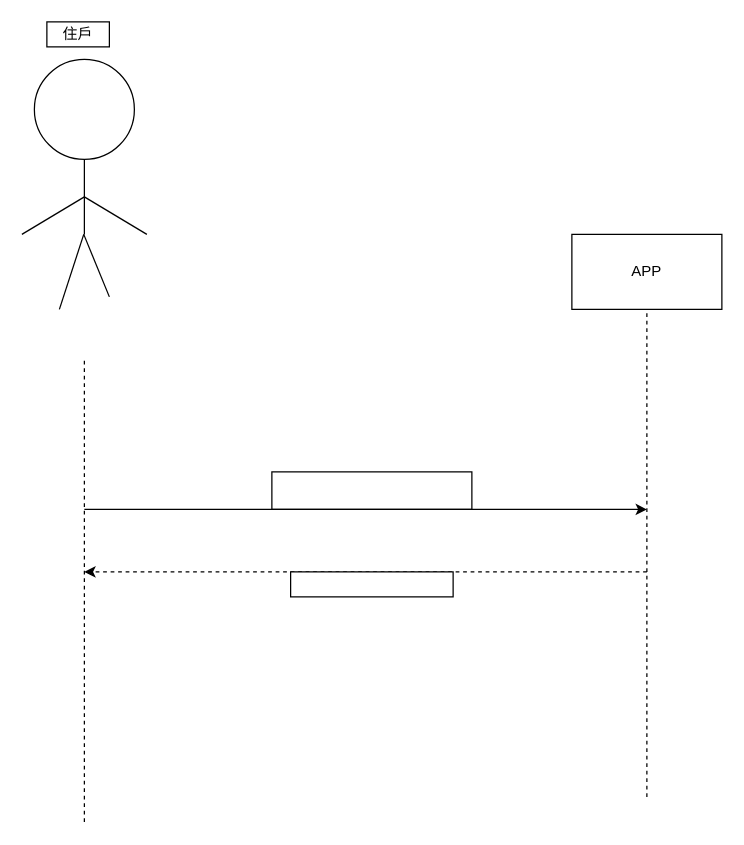
Image size: 744x845. Some labels were removed from this diagram. Each missing label, with the box of its shape:
Getpackagelocation(): (271, 471, 472, 509)
packagelocation: (289, 571, 453, 597)
